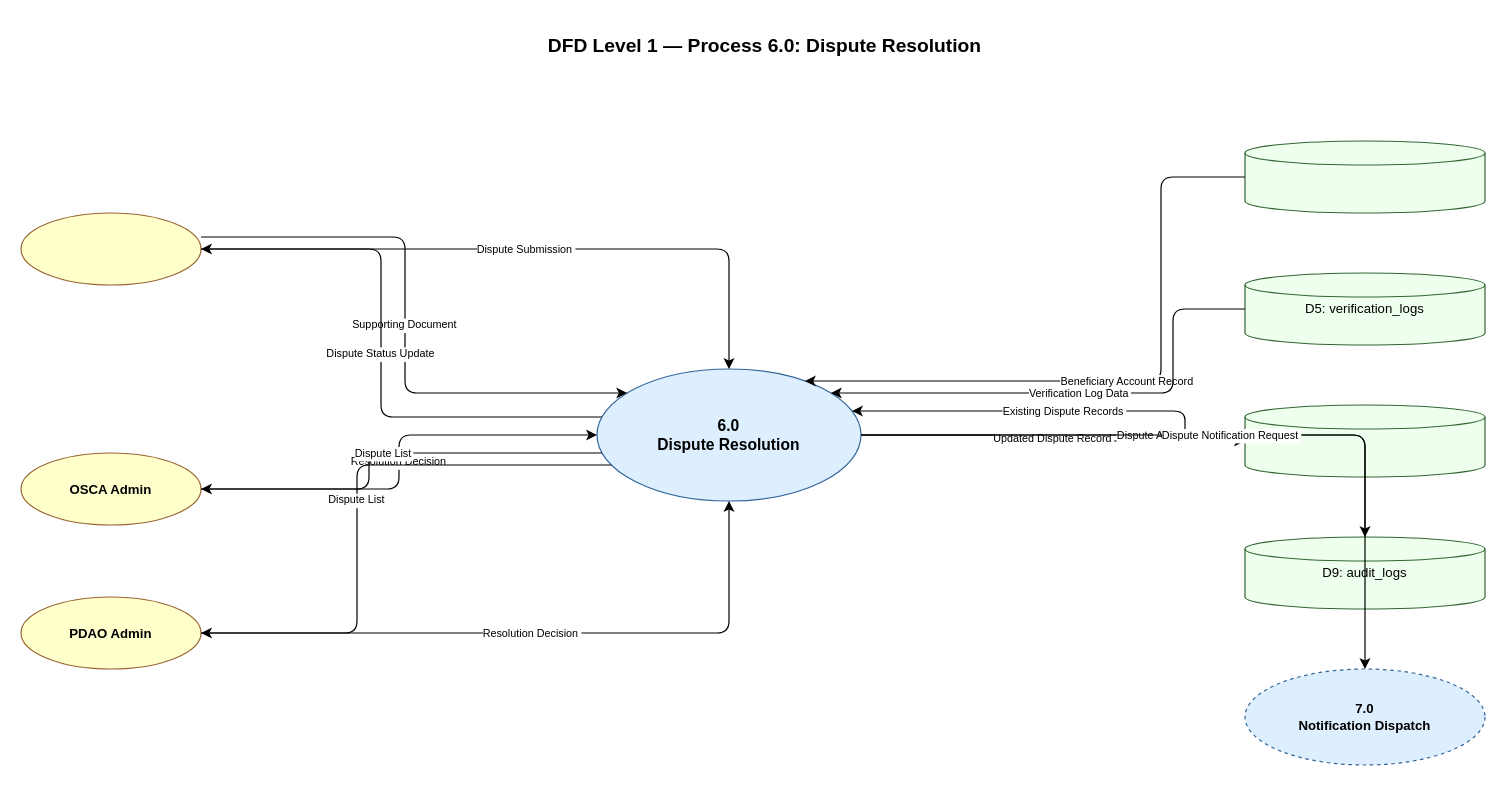
Image size: 1506x786. Some labels were removed from this diagram. Each missing label, with the centre of its shape:
"Beneficiary" belongs at (110,248).
"D4: beneficiary_accounts" belongs at (1364,176).
"D7: disputes" belongs at (1364,440).
